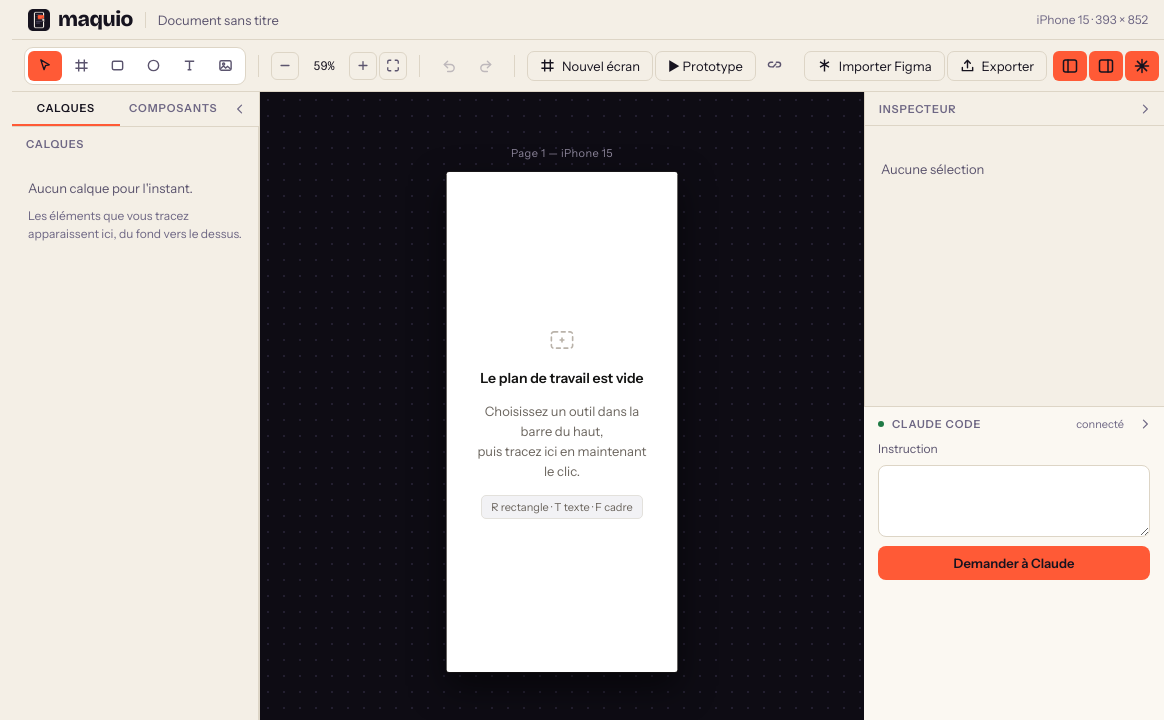
panneau Claude repliable › le bouton de l en-tete replie, la bascule de la barre d outils deplie, et la preference est memorisee
Click the button named "Replier le panneau Claude" at (1145, 424), box x1=1132 y1=410 x2=1158 y2=436
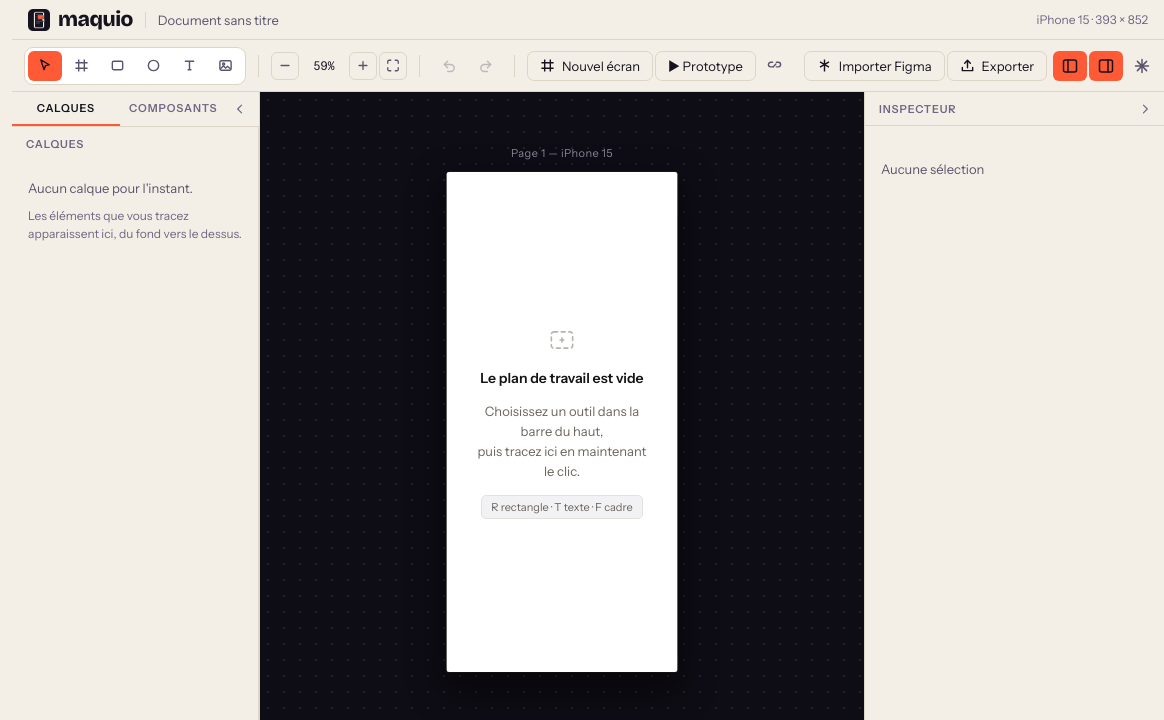
Expected: the button "Demander à Claude" is gone
Click the button with test id "toggle-claude" at (1142, 66), box x1=1125 y1=50 x2=1159 y2=80
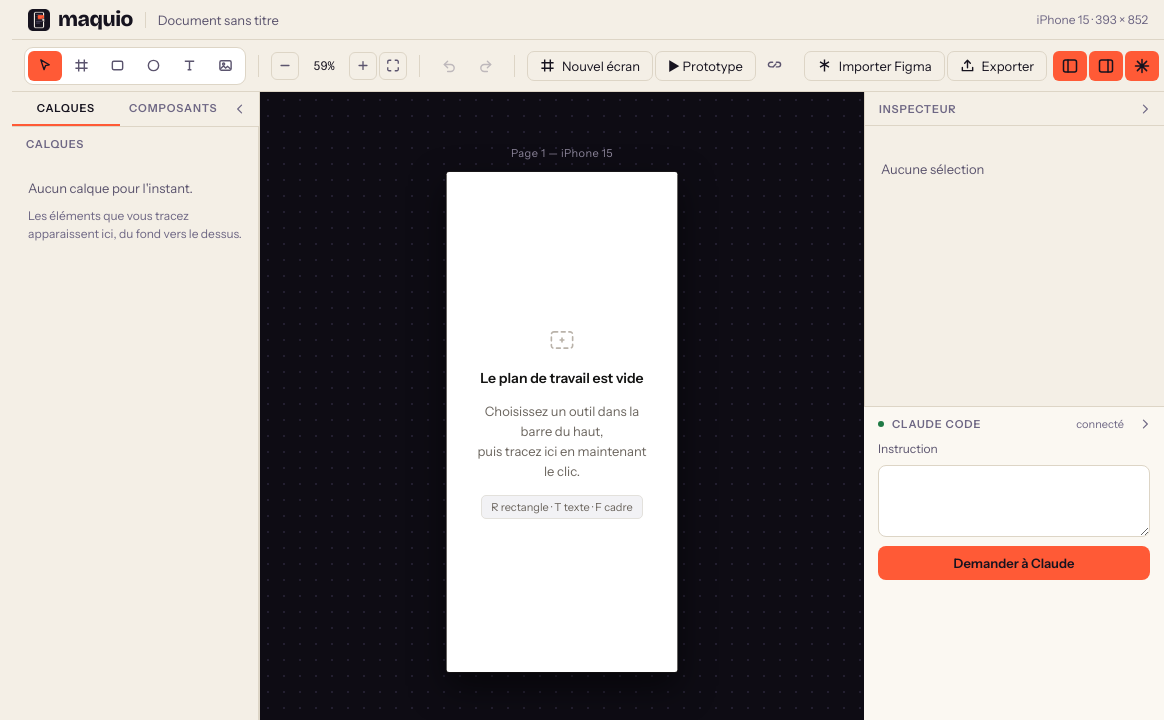
Expected: the button "Demander à Claude" is shown, x1=878 y1=546 x2=1150 y2=580
